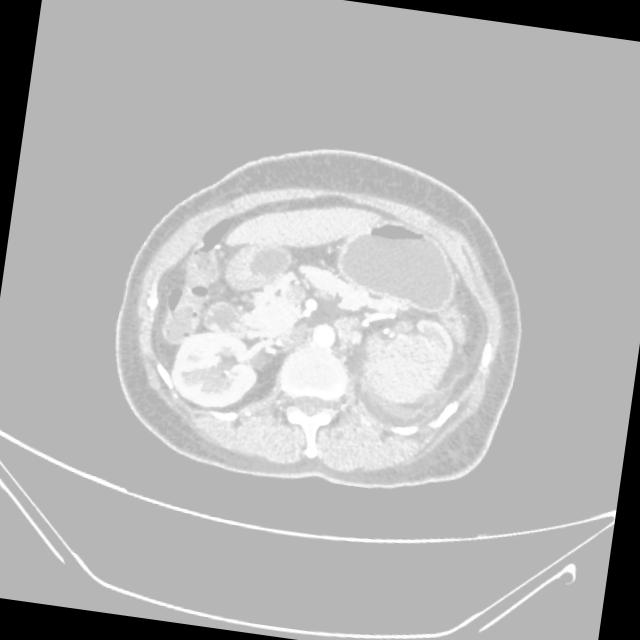TUMOR: (122, 133, 512, 418)
